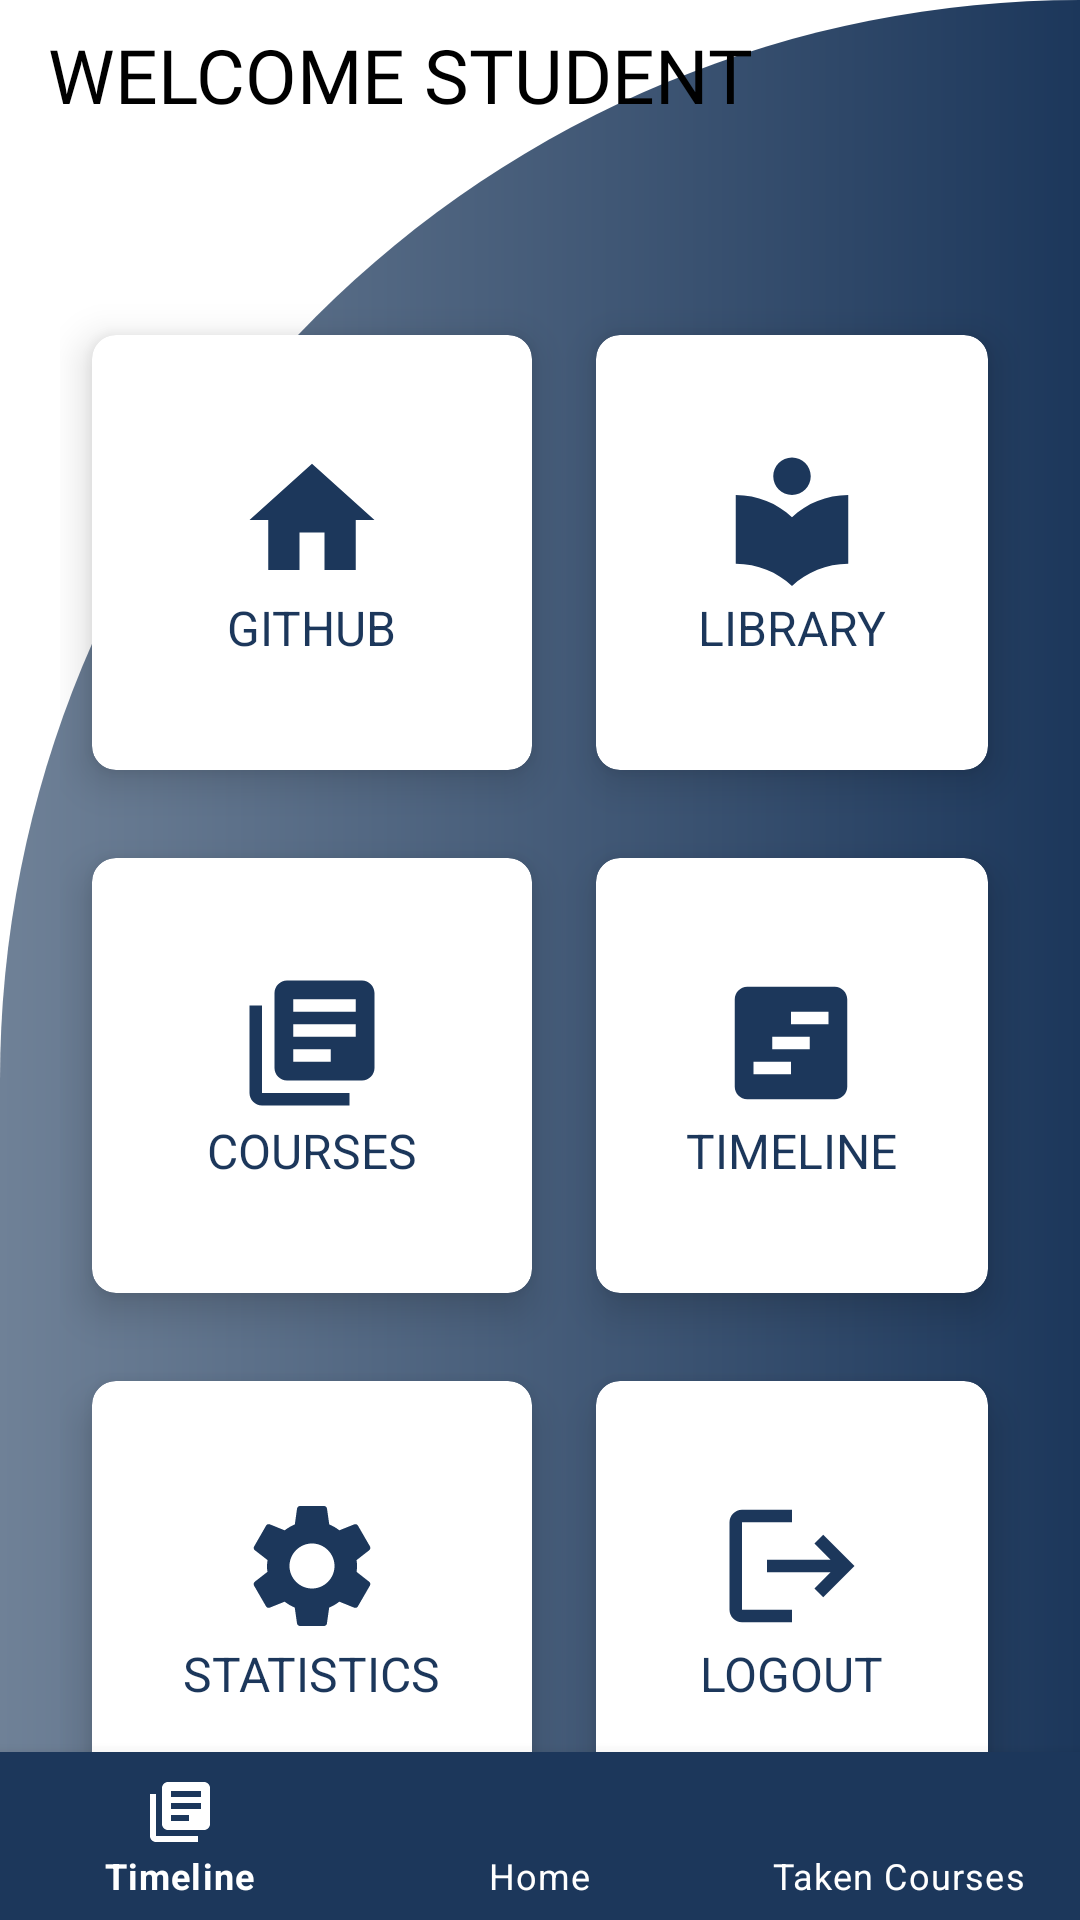

Screen size 1080 x 1920. Icon name, then its center in pixels as point (x, y):
home bigger: point (312, 517)
library books: point (312, 1043)
settings: point (312, 1566)
